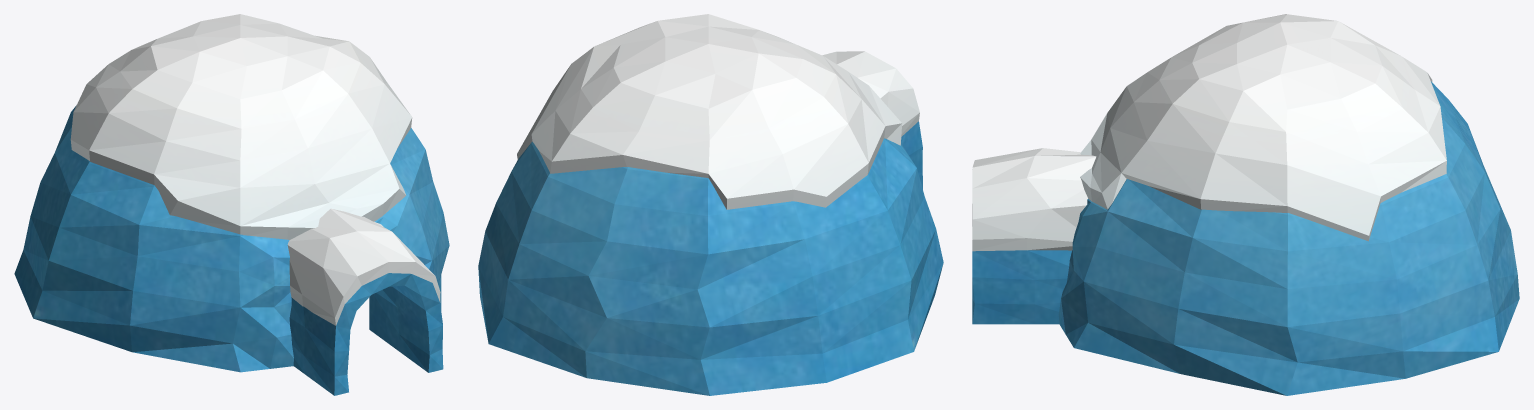
The model's file is HX-Bingwu.FBX.
3 views of the same model, side by side, from view 1: azimuth 30°, elevation 25°; view 2: azimuth 150°, elevation 25°; view 3: azimuth 270°, elevation 25° (orthographic). The views are drawn at different scales.
Visible parts, largest first — view 1: jixue6, bingwu; view 2: bingwu, jixue6; view 3: bingwu, jixue6.
Boxes of the visible parts, <box> form: jixue6: <box>70,14,440,325</box>; bingwu: <box>14,105,449,395</box>; bingwu: <box>478,121,943,395</box>; jixue6: <box>517,14,919,209</box>; bingwu: <box>972,81,1519,395</box>; jixue6: <box>972,14,1446,251</box>.
Size of the model in its own units: 2191 by 1258 by 2484.
